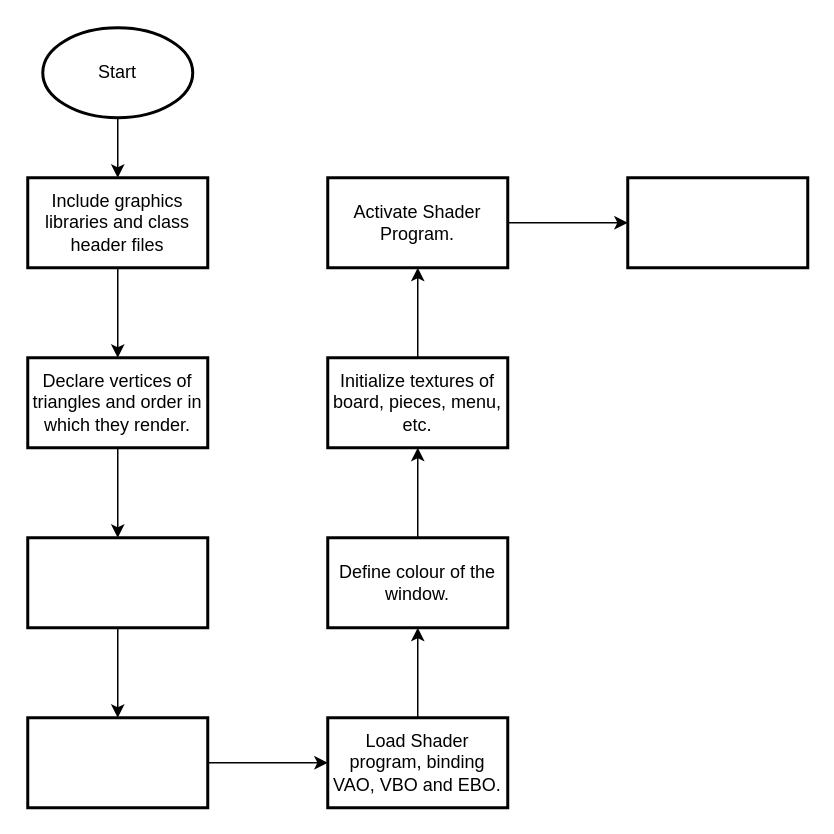
Some shapes in this 834 by 834 pixel diagram are drawn without their labels. The box of each missing label's shape, as (x1, y1, x2, y2) in pixels:
Draw the board, pieces, menu, etc.: (626, 176, 808, 268)
Initialize and create GLFW window of a specified size: (26, 536, 208, 628)
Tell glad where the window starts and ends: (26, 716, 208, 808)
